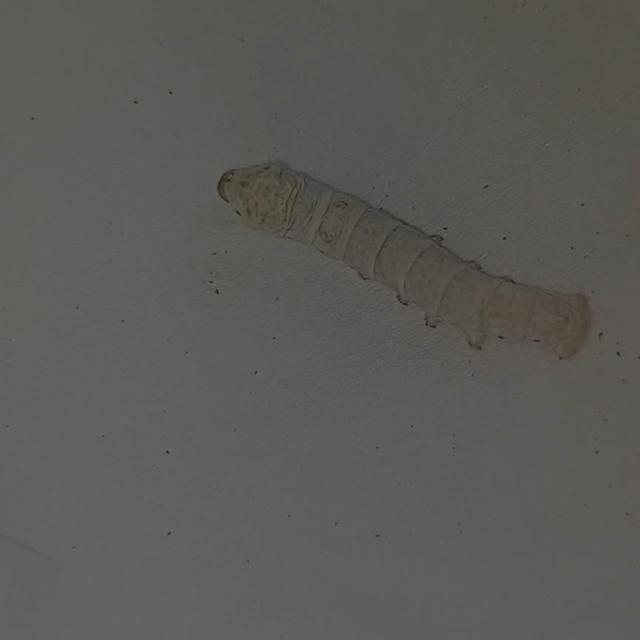Healthy: (176, 117, 614, 420)
